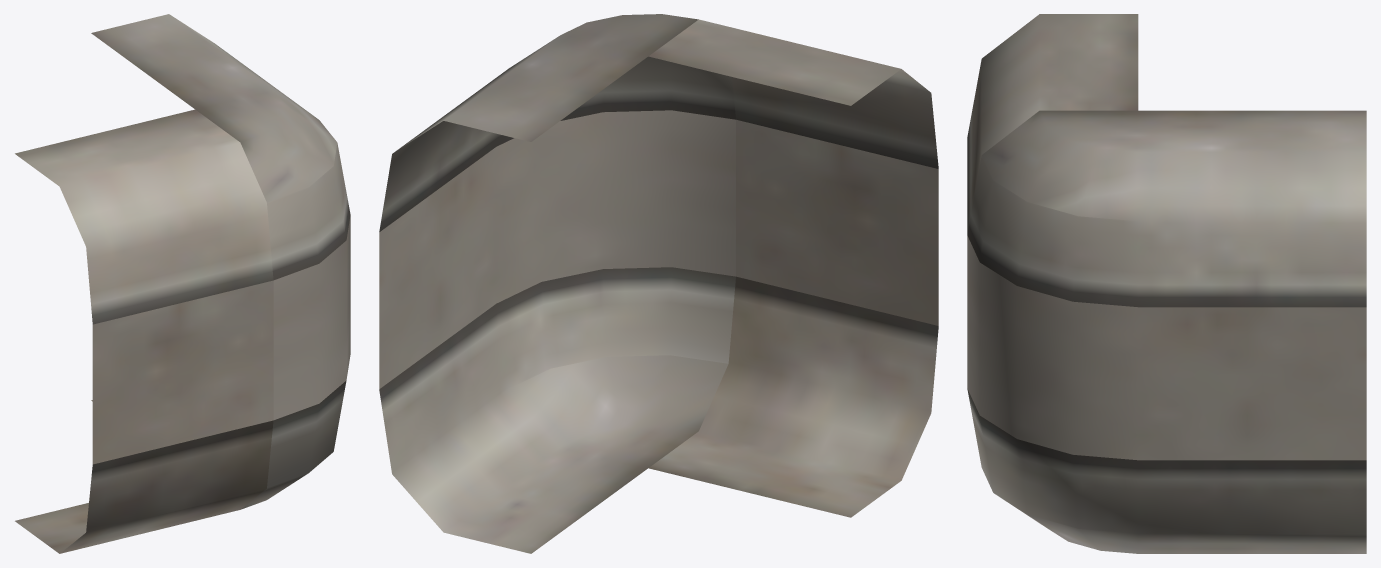
The model's file is lab_ceiling_welder_corner_small.dae.
3 renders of one model, left to right at view 1: azimuth 30°, elevation 25°; view 2: azimuth 150°, elevation 25°; view 3: azimuth 270°, elevation 25°, orthographic. The views are drawn at different scales.
Visible parts, largest first — view 1: lab_ceiling_welder_corner_small; view 2: lab_ceiling_welder_corner_small; view 3: lab_ceiling_welder_corner_small.
Boxes of the visible parts, x1,y1,x2,y2 form: lab_ceiling_welder_corner_small: [15, 14, 350, 553]; lab_ceiling_welder_corner_small: [379, 14, 938, 553]; lab_ceiling_welder_corner_small: [967, 14, 1366, 553].
Bounding box in the file's own units: 0.2188 × 0.2426 × 0.2188.
